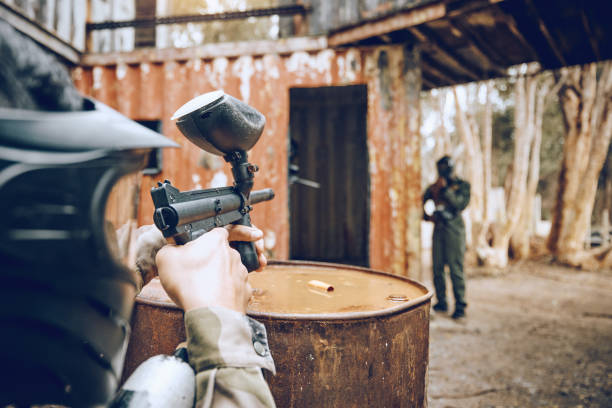gun: (147, 178, 274, 269)
